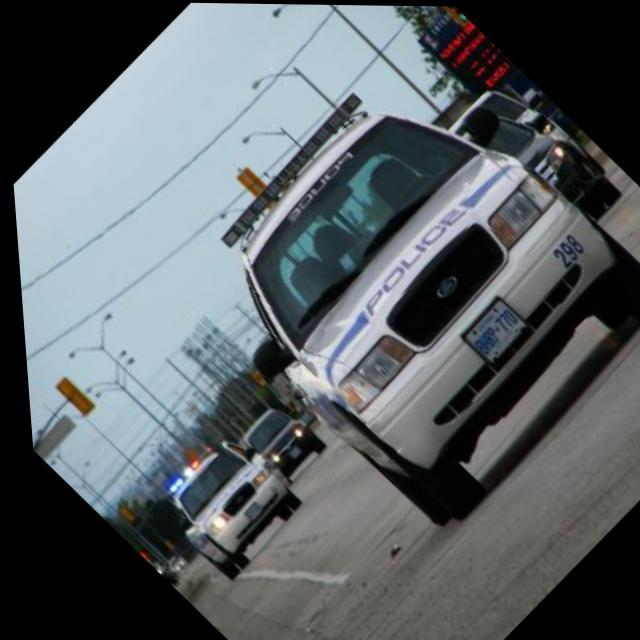license_plate: (456, 296, 527, 363), (234, 498, 258, 522), (282, 444, 296, 458)
